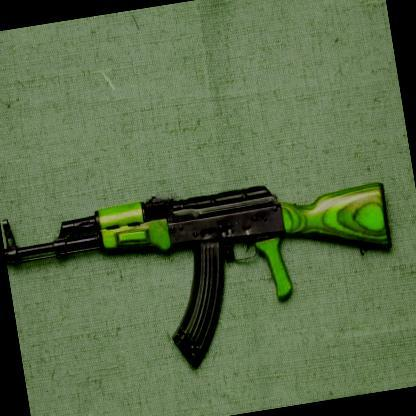rifle: (0, 130, 408, 373)
